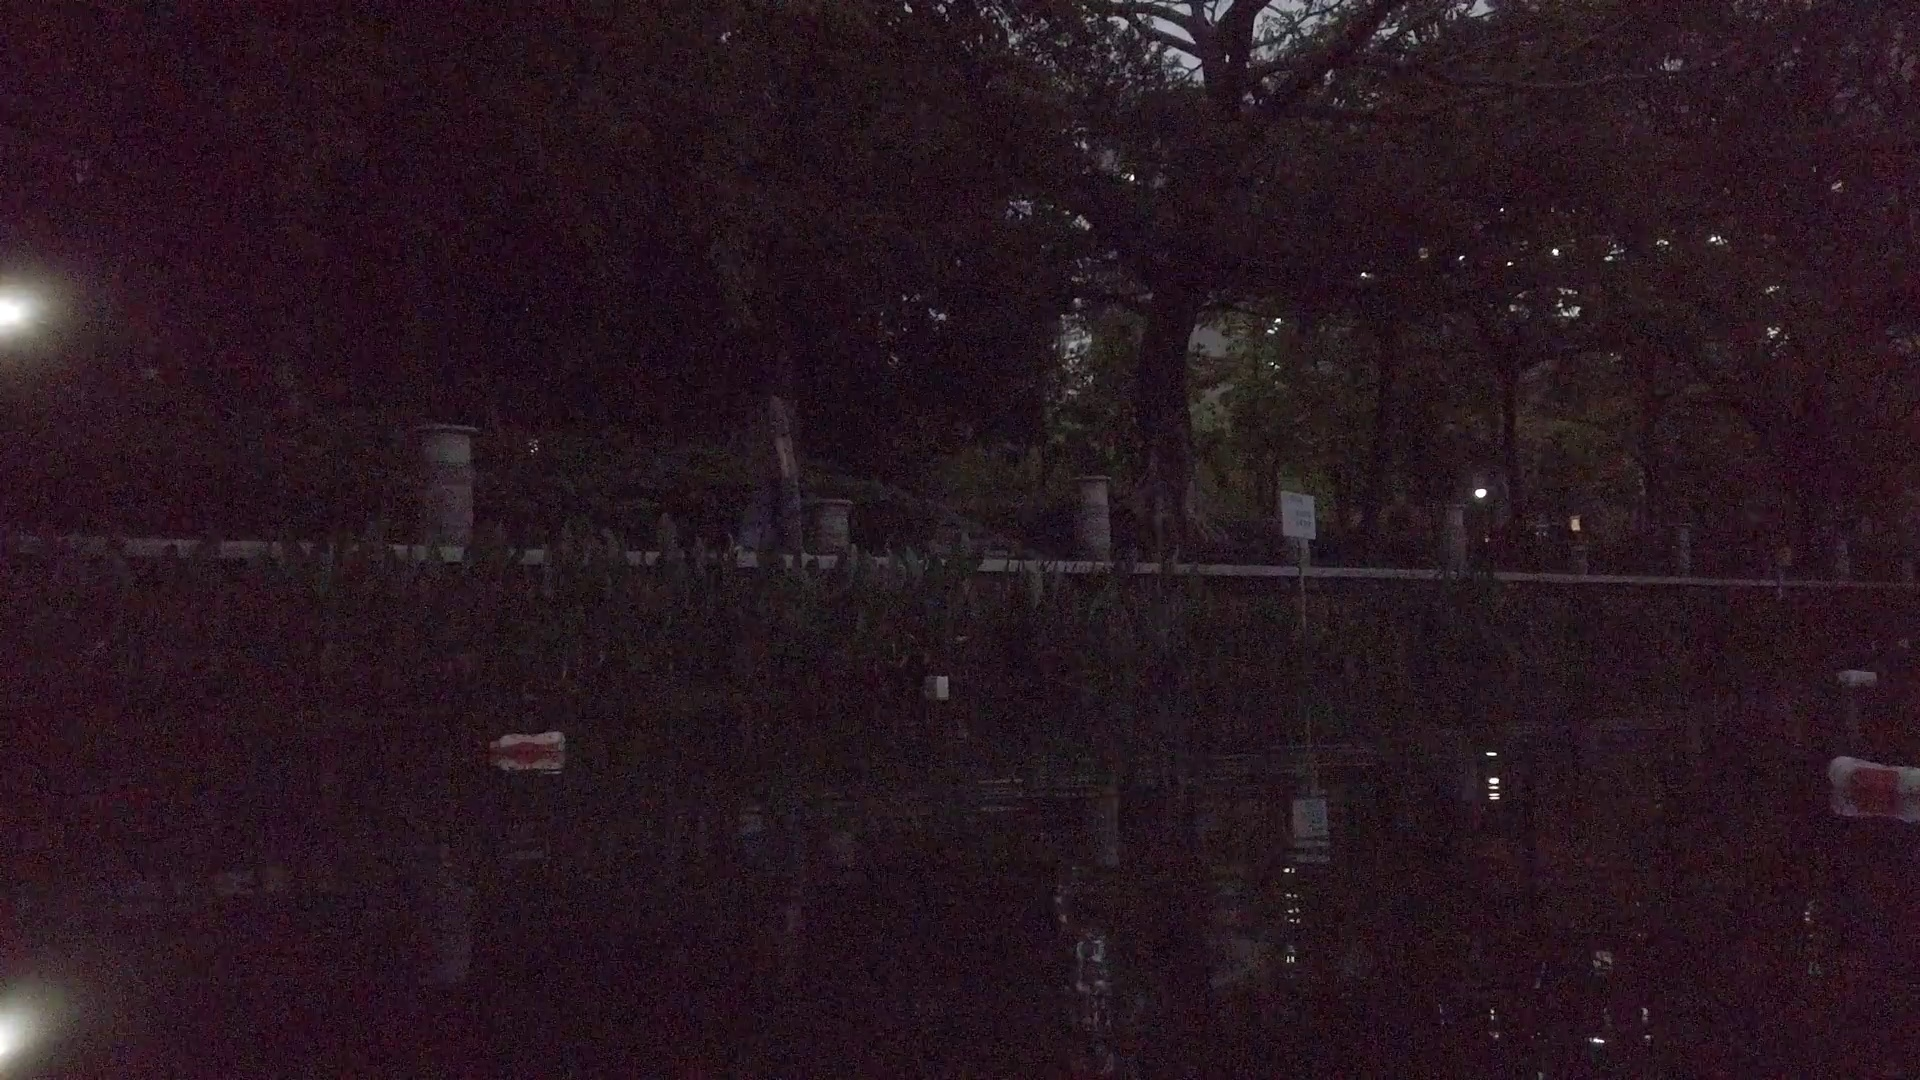bottle: (1826, 749, 1917, 798), (488, 733, 567, 756)
carton: (1837, 669, 1883, 688), (924, 674, 949, 698)
